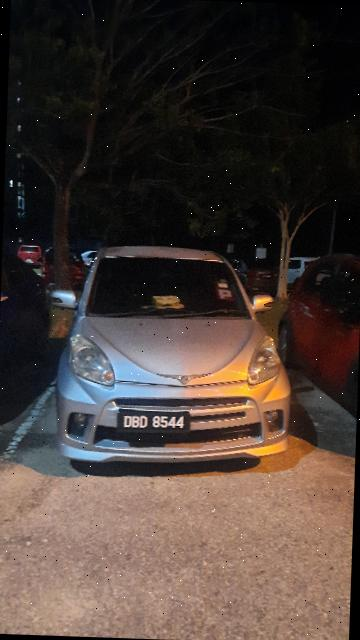License_Plate: (117, 405, 194, 437)
car: (45, 245, 302, 475)
